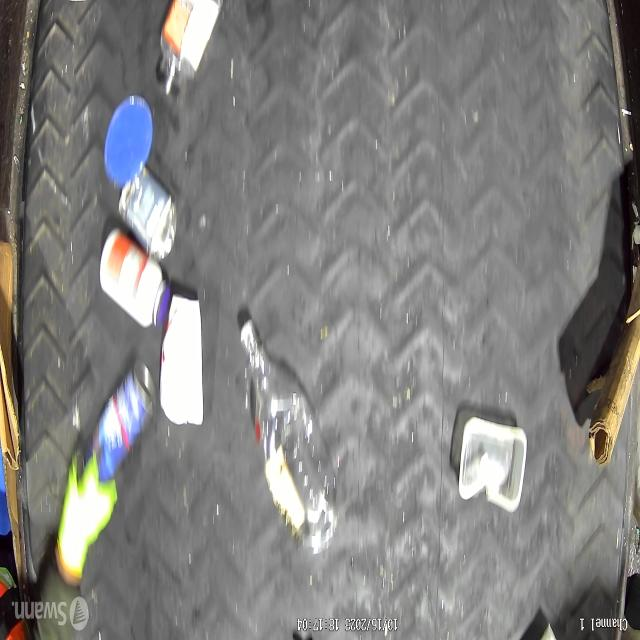can: (82, 360, 154, 480)
plastic_bottle: (239, 322, 338, 552)
